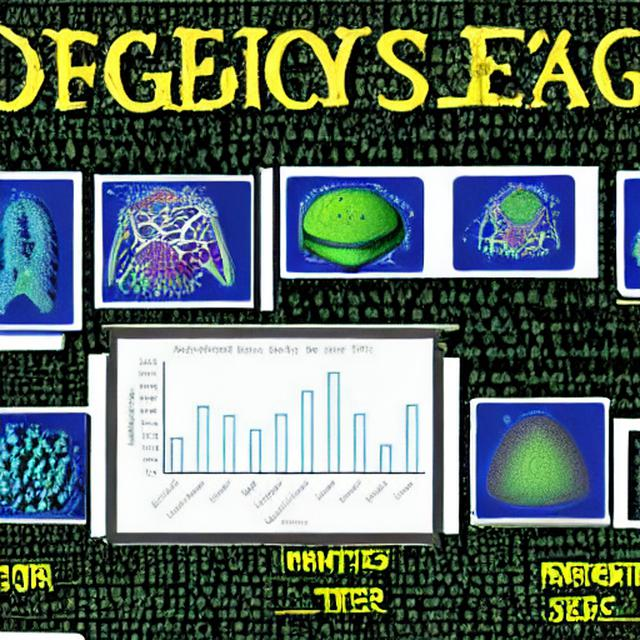Graph: (118, 340, 428, 527)
